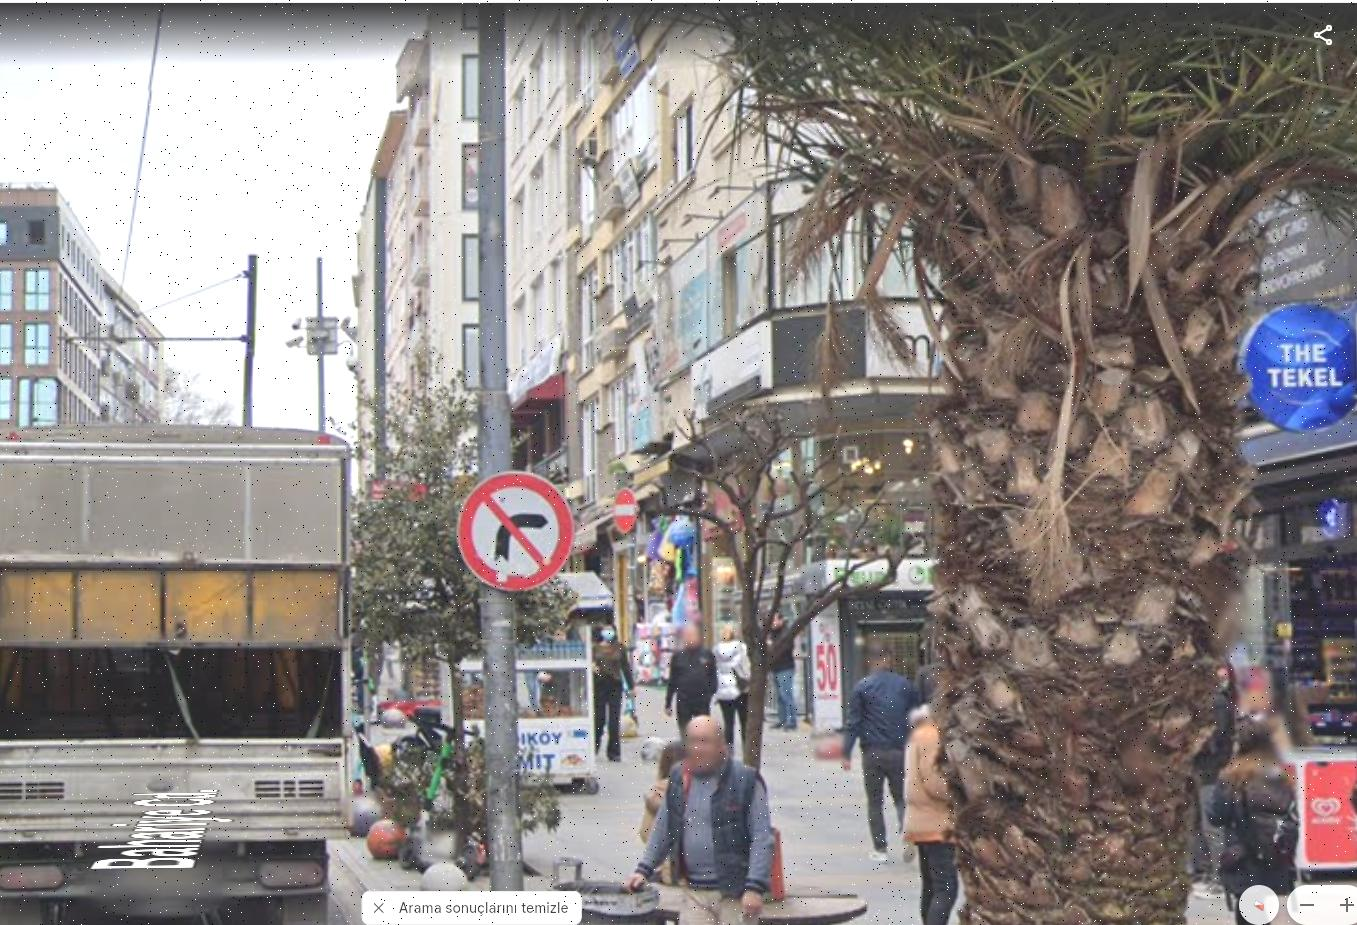rightturnsareforbidden: (463, 475, 567, 583)
